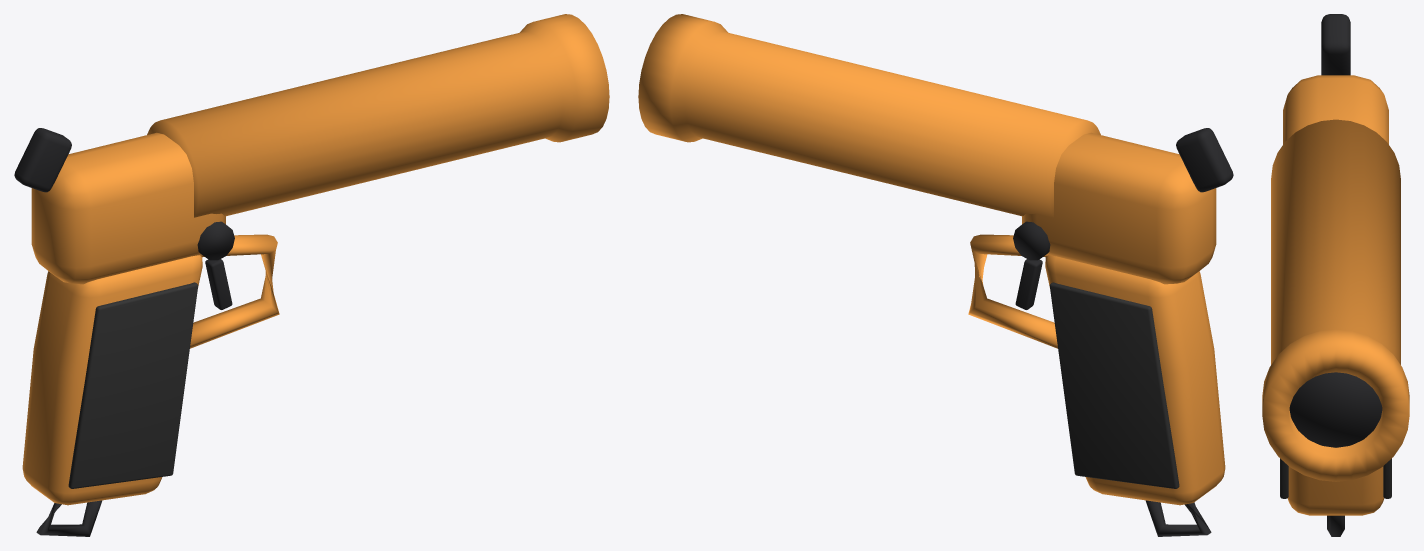
The model's file is SM_FlareGun.glb.
The picture shows the model from 3 angles, left to right: view 1: azimuth 30°, elevation 25°; view 2: azimuth 150°, elevation 25°; view 3: azimuth 270°, elevation 25°; orthographic projection. The views are drawn at different scales.
Parts seen in each view (by area): view 1: SM_FlareGun; view 2: SM_FlareGun; view 3: SM_FlareGun.
Part boxes in pixels (box(x1,y1,x2,y2)): SM_FlareGun: box(14, 14, 609, 536); SM_FlareGun: box(638, 14, 1233, 536); SM_FlareGun: box(1262, 14, 1409, 536).
Size of the model in its own units: 0.2618 by 0.1857 by 0.05.
